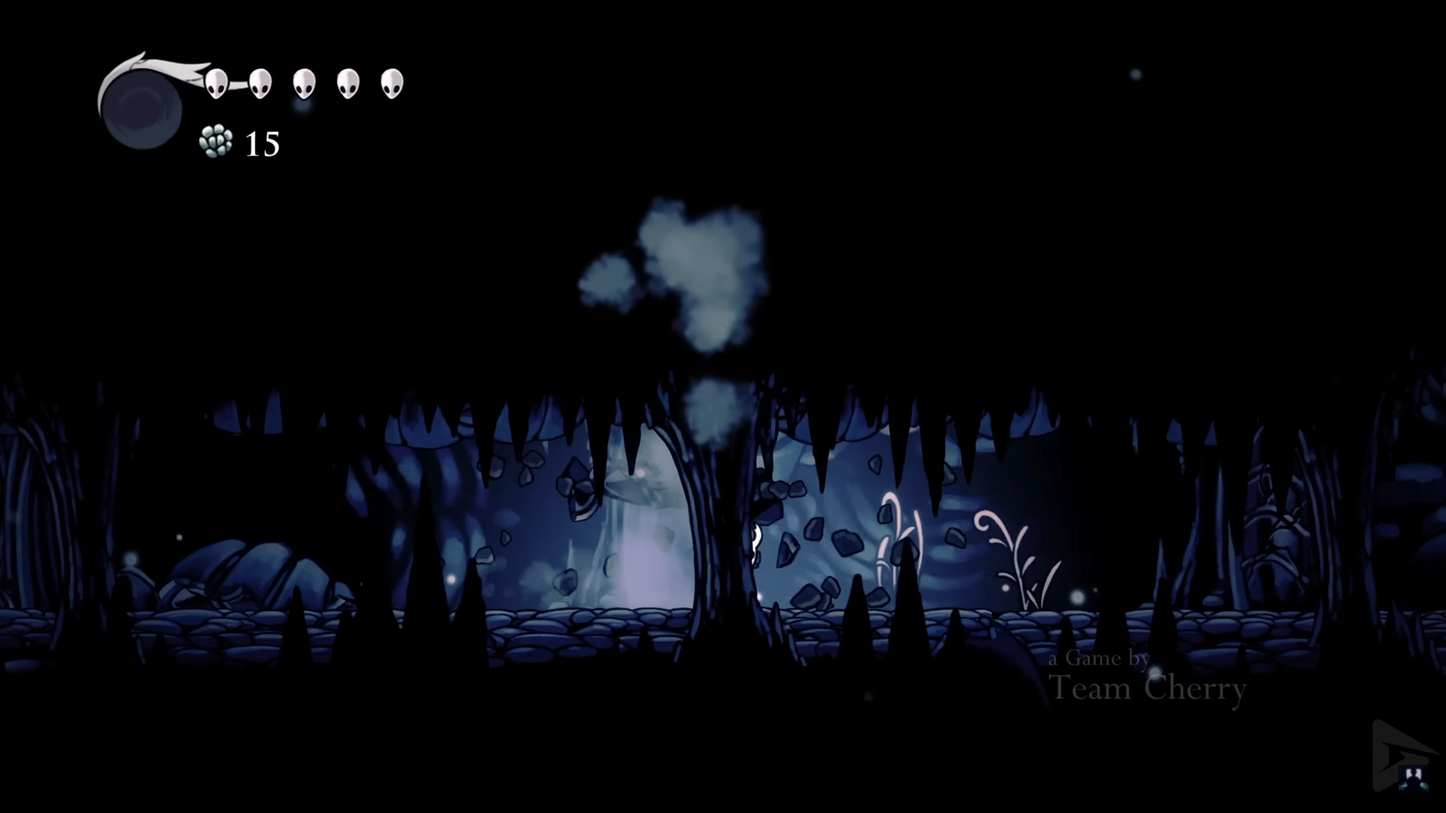HK: (717, 522, 762, 614)
